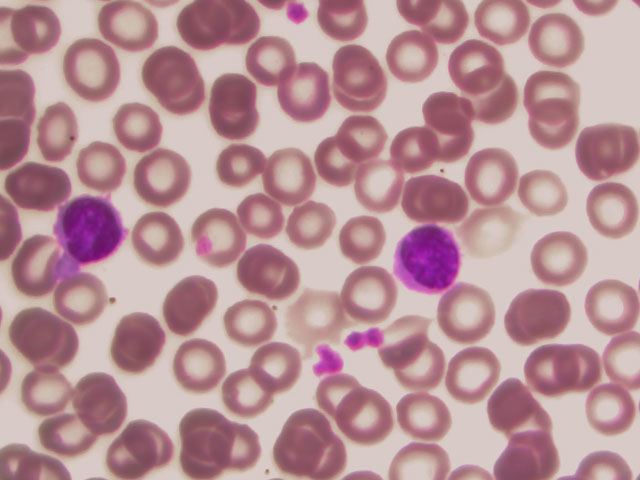Platelets: (342, 325, 391, 353), (310, 343, 345, 381), (285, 1, 313, 27)
RBC: (263, 148, 320, 205), (214, 138, 271, 195), (138, 148, 195, 205), (108, 95, 165, 152), (78, 131, 135, 188), (27, 100, 84, 157), (10, 155, 67, 212), (130, 210, 187, 267), (162, 276, 219, 333), (221, 294, 278, 351), (239, 240, 296, 297), (189, 208, 246, 265), (233, 191, 290, 248), (286, 199, 343, 256), (338, 210, 395, 267), (340, 264, 397, 321), (287, 288, 344, 345), (399, 337, 456, 394), (437, 283, 494, 340), (444, 346, 501, 403), (481, 375, 538, 432), (524, 345, 581, 402), (514, 288, 571, 345), (533, 227, 590, 284), (471, 206, 528, 263), (516, 168, 573, 225), (467, 148, 524, 205), (405, 170, 462, 227), (348, 154, 405, 211), (308, 134, 365, 191), (335, 110, 392, 167), (275, 65, 332, 122), (248, 39, 305, 96), (204, 77, 261, 134), (150, 59, 207, 116), (63, 40, 120, 97), (4, 232, 61, 289), (53, 269, 110, 326), (14, 303, 71, 360), (17, 359, 74, 416), (76, 372, 133, 429), (51, 403, 108, 460), (107, 423, 164, 480), (188, 415, 245, 472), (220, 366, 277, 423), (256, 337, 313, 394), (173, 337, 230, 394), (111, 316, 168, 373), (341, 397, 398, 454), (392, 390, 449, 447), (286, 423, 343, 480), (501, 423, 558, 480), (583, 382, 640, 439), (583, 334, 640, 391), (583, 278, 640, 335), (583, 184, 640, 241), (583, 123, 640, 180), (526, 102, 583, 159), (524, 64, 581, 121), (528, 10, 585, 67), (449, 43, 506, 100), (470, 72, 527, 129), (423, 88, 480, 145), (397, 122, 454, 179), (385, 31, 442, 88), (333, 50, 390, 107), (177, 3, 234, 60), (99, 1, 156, 57), (472, 1, 529, 57), (410, 1, 465, 38)
WBC: (393, 225, 464, 295), (54, 193, 125, 263)
